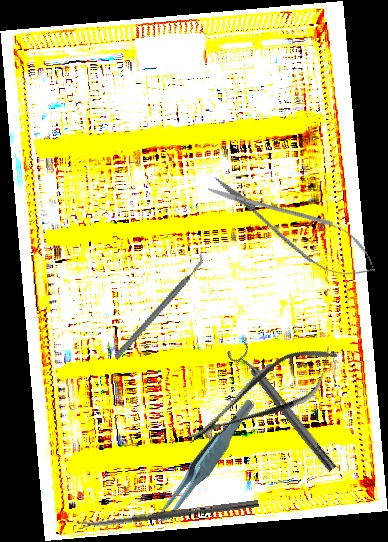Chopper: (90, 252, 228, 360)
Fixation Ring: (224, 338, 343, 478)
Micro Scissor: (199, 162, 387, 292), (173, 331, 351, 462)
Surgical Spoon: (78, 499, 259, 529)
Tissue Forceps: (130, 398, 277, 528)
